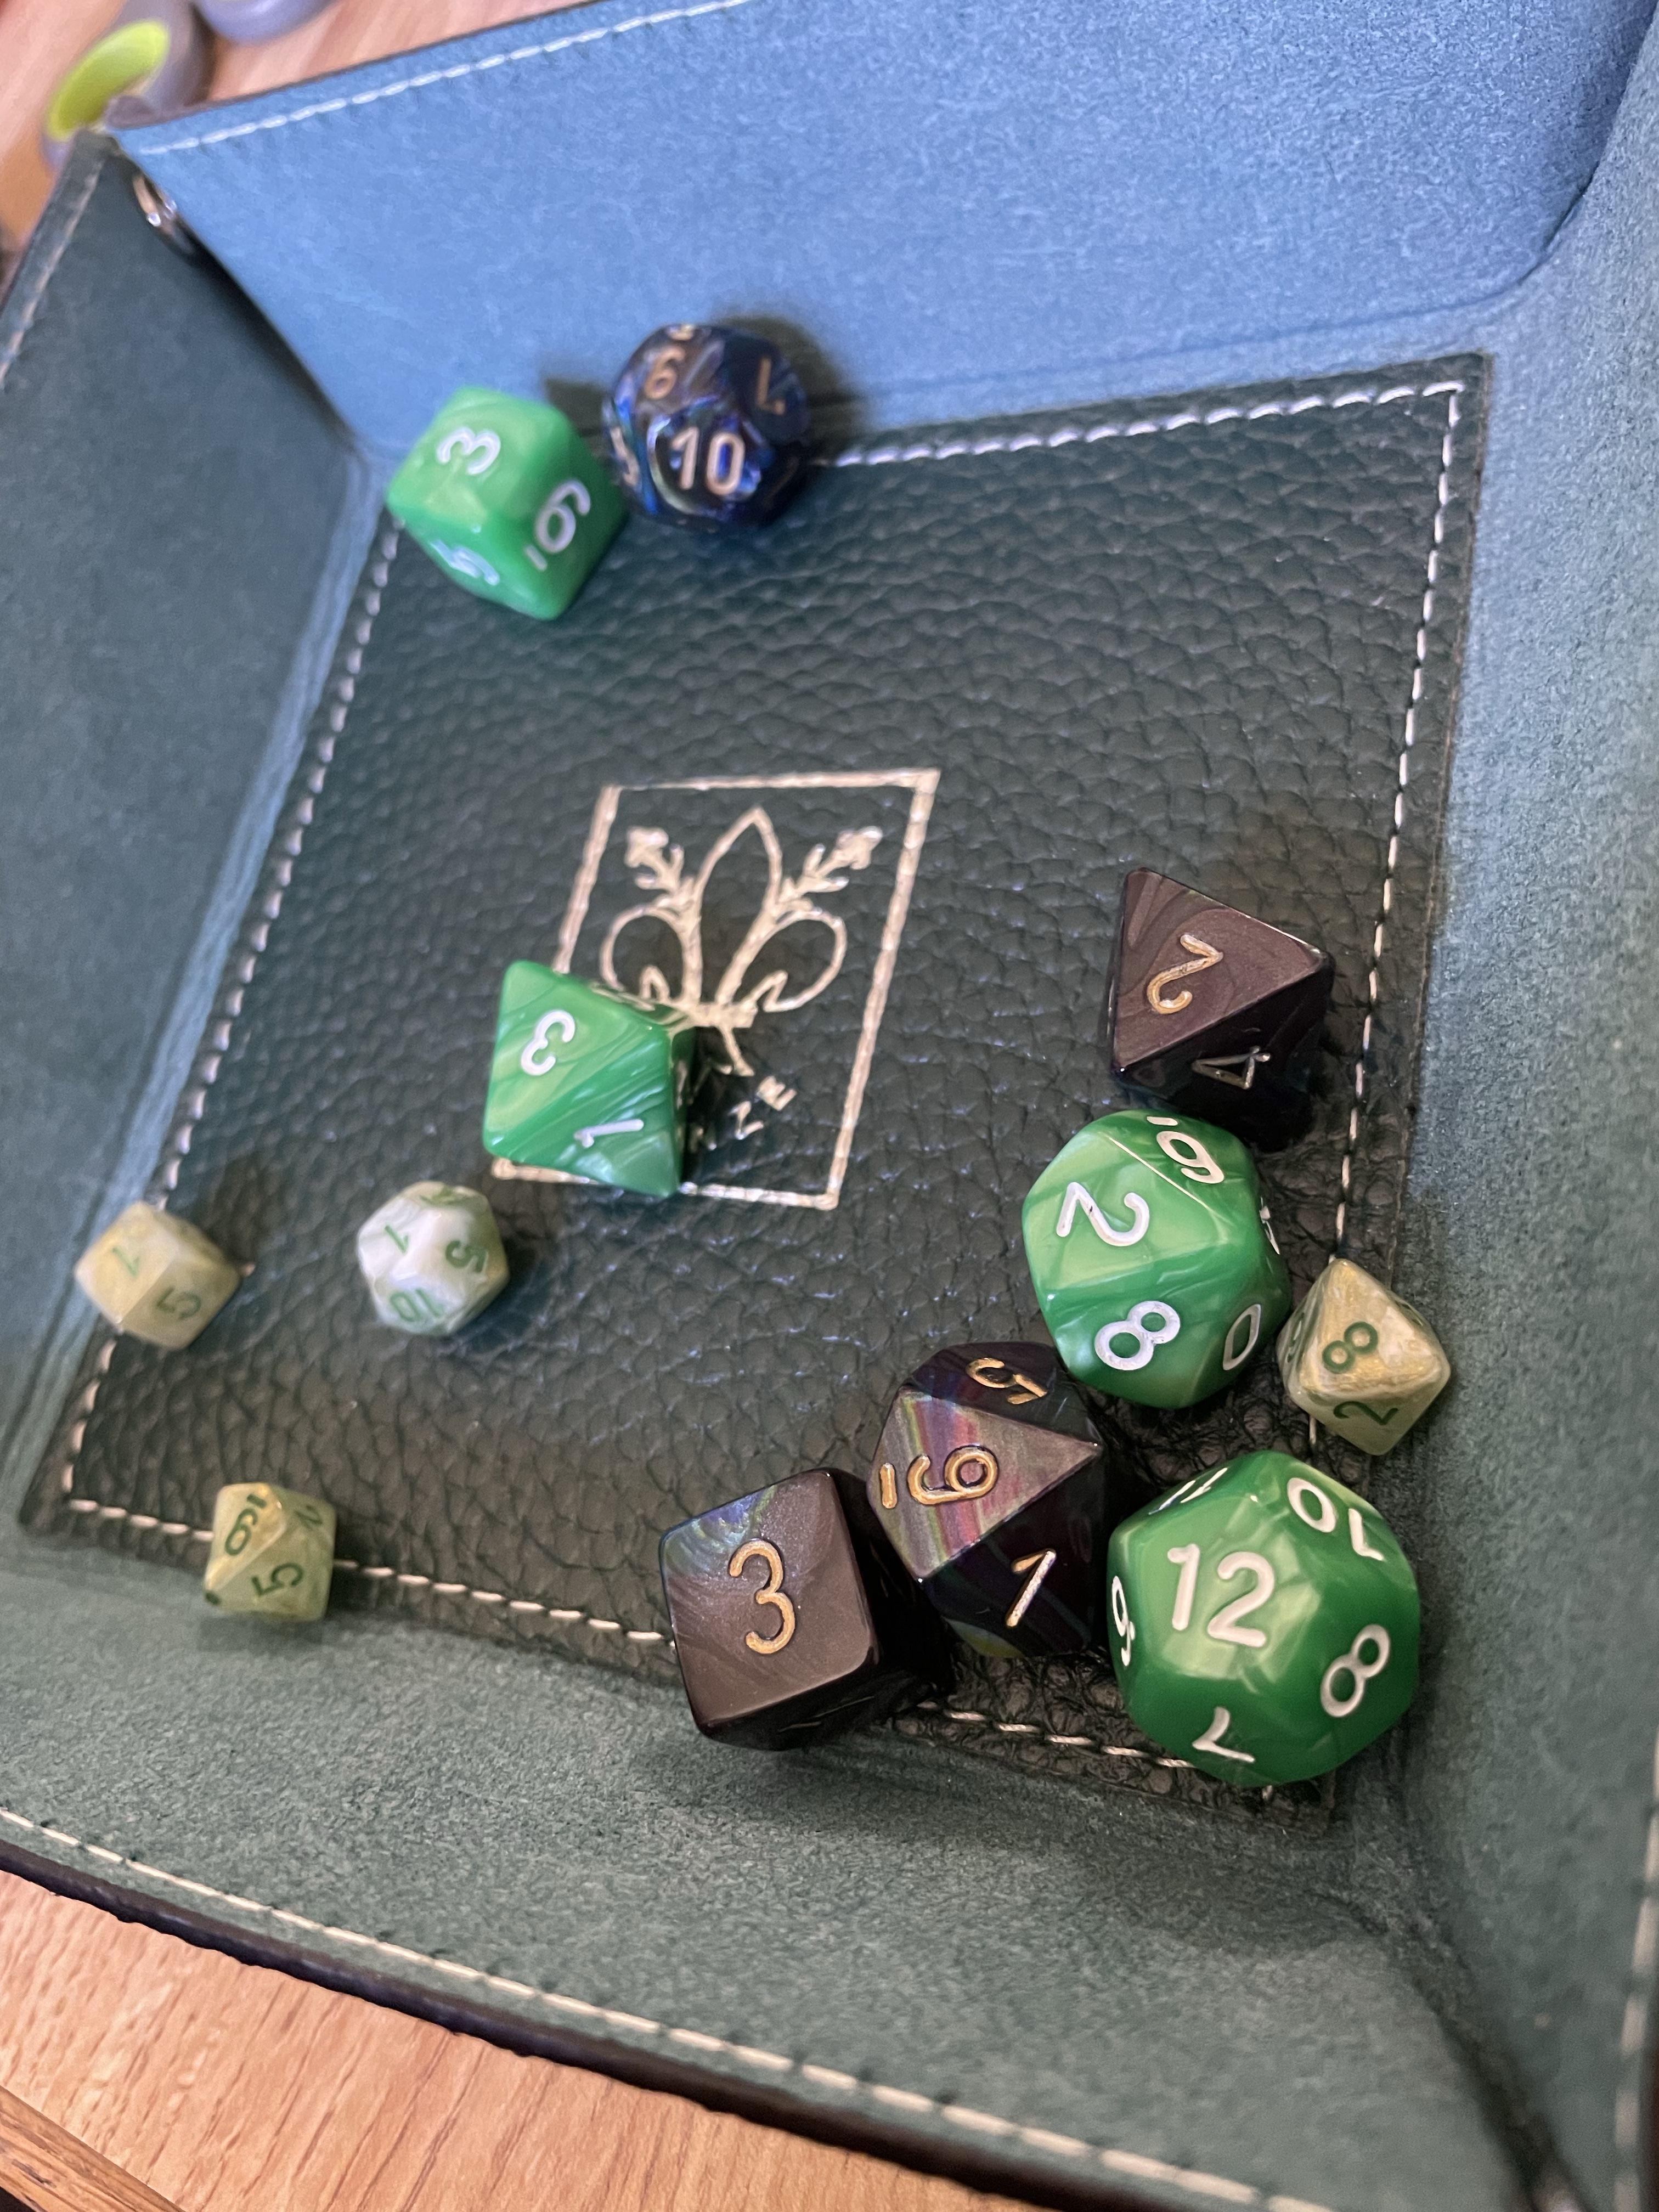eight: (1260, 1242, 1485, 1461)
nine: (838, 1310, 1136, 1679), (589, 293, 849, 552), (153, 1468, 375, 1670)
one: (71, 1170, 265, 1385), (331, 1151, 532, 1346)
three: (633, 1423, 911, 1771), (340, 345, 660, 617), (464, 932, 695, 1212)
twelve: (1087, 1413, 1448, 1818)
two: (1032, 822, 1391, 1155), (964, 1089, 1302, 1430)
